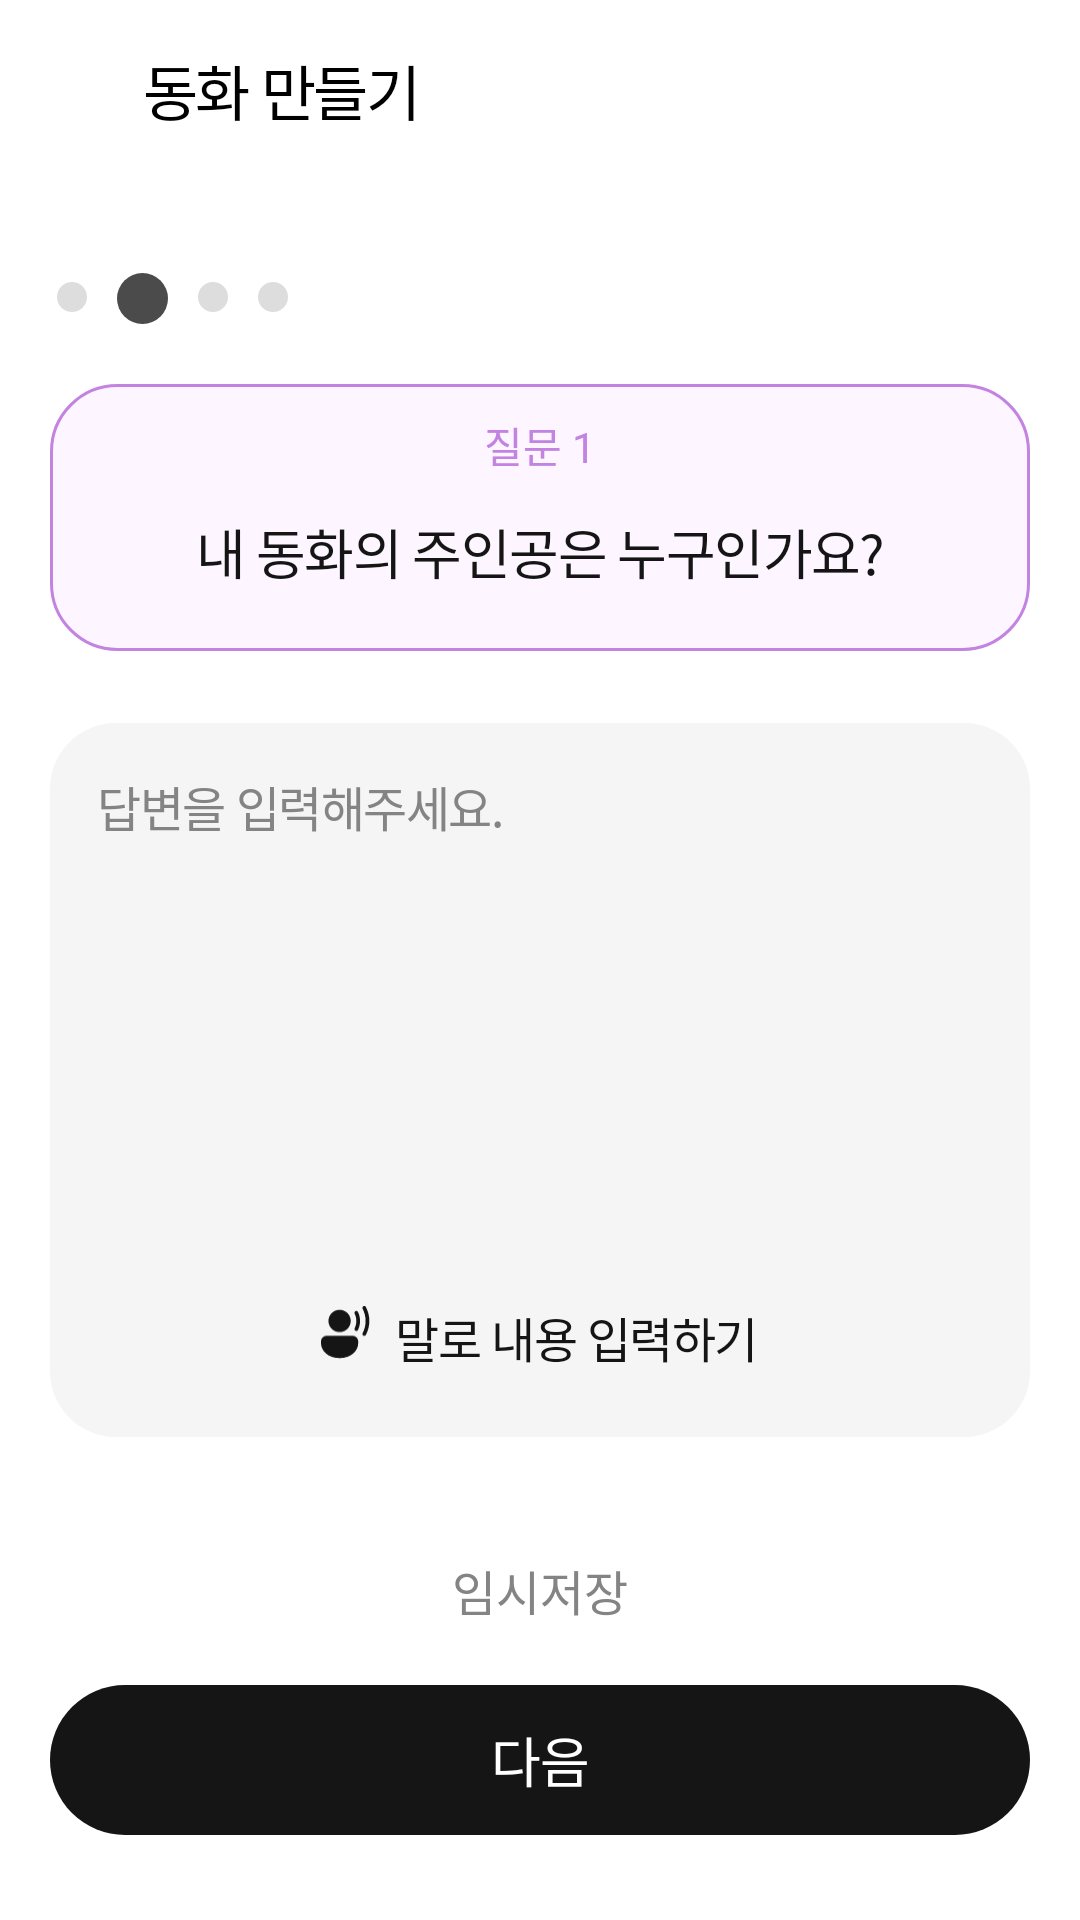

Icons on this 1080 x 1920 Android screen, each with its box as Rect(x1, y1, x2, y2):
음성 입력: Rect(321, 1306, 370, 1359)
